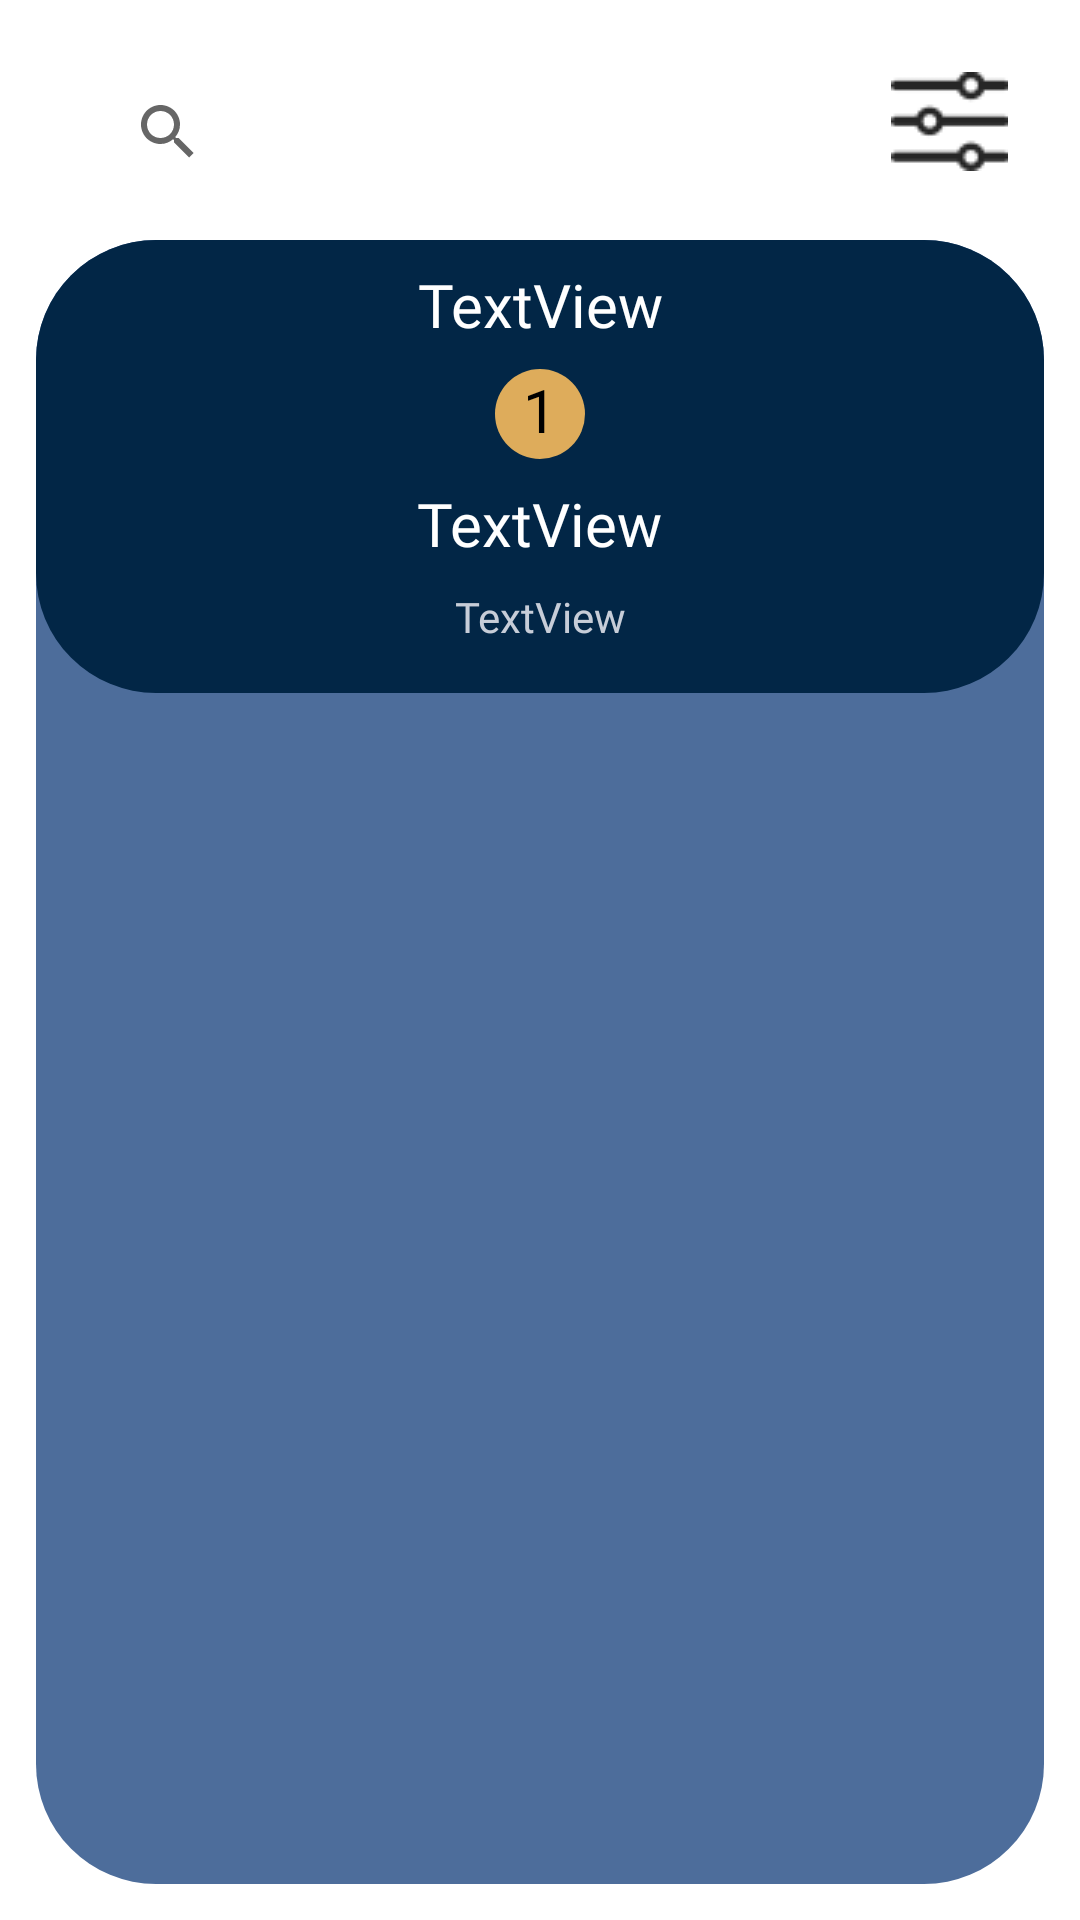

Where icons sit on this 1080*1920 app screen, as (x1, y1, x2, y2):
filter: (891, 72, 1008, 171)
